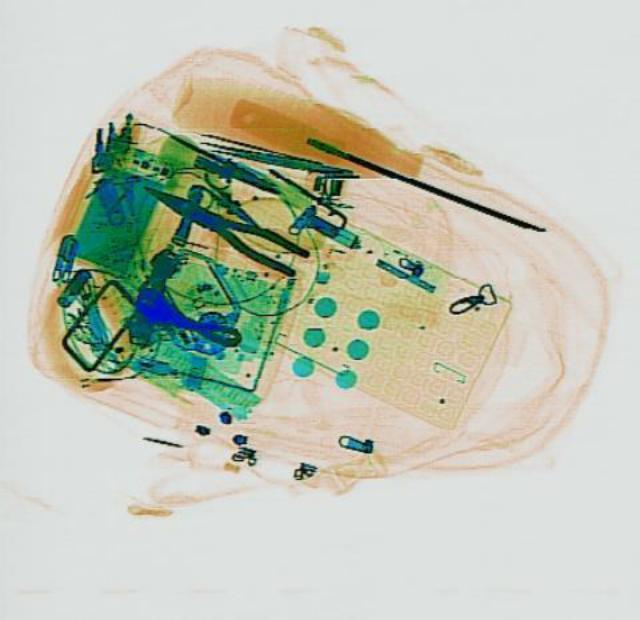Pliers: (135, 172, 309, 280)
